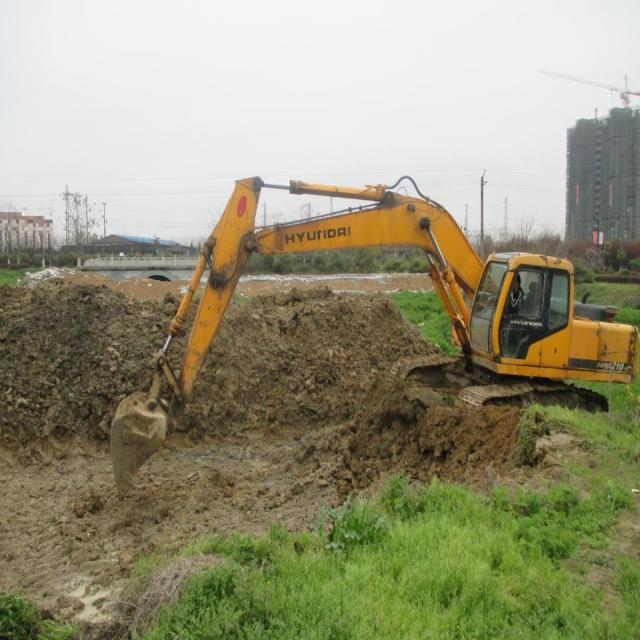crane: (528, 61, 638, 120)
excavator: (104, 160, 640, 526)
